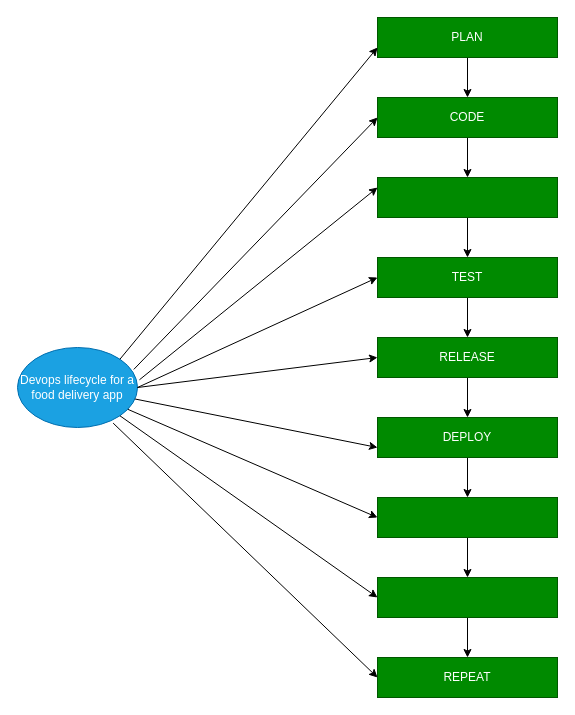
The diagram is 575 pixels wide and 715 high, and some of its shapes have lost their labels. The centre of each missing label's shape, as x and y in pixels:
BUILD: (467,197)
FEEDBACK: (467,597)
MONITOR: (467,517)
